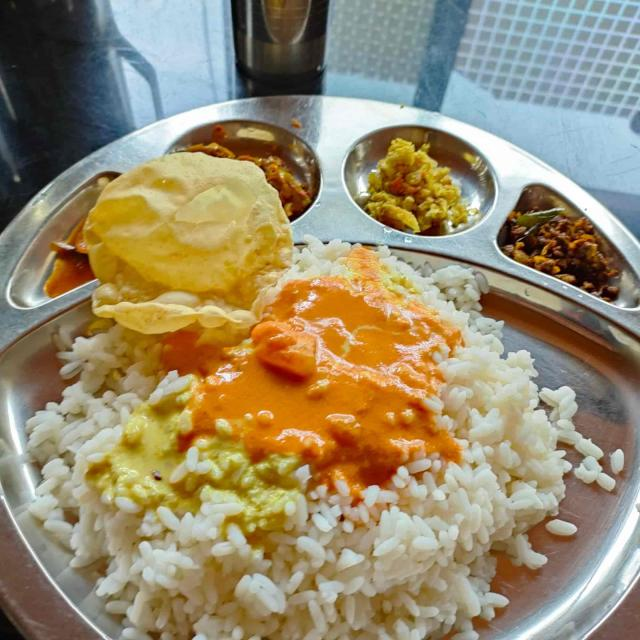veg meals: (12, 102, 640, 640)
